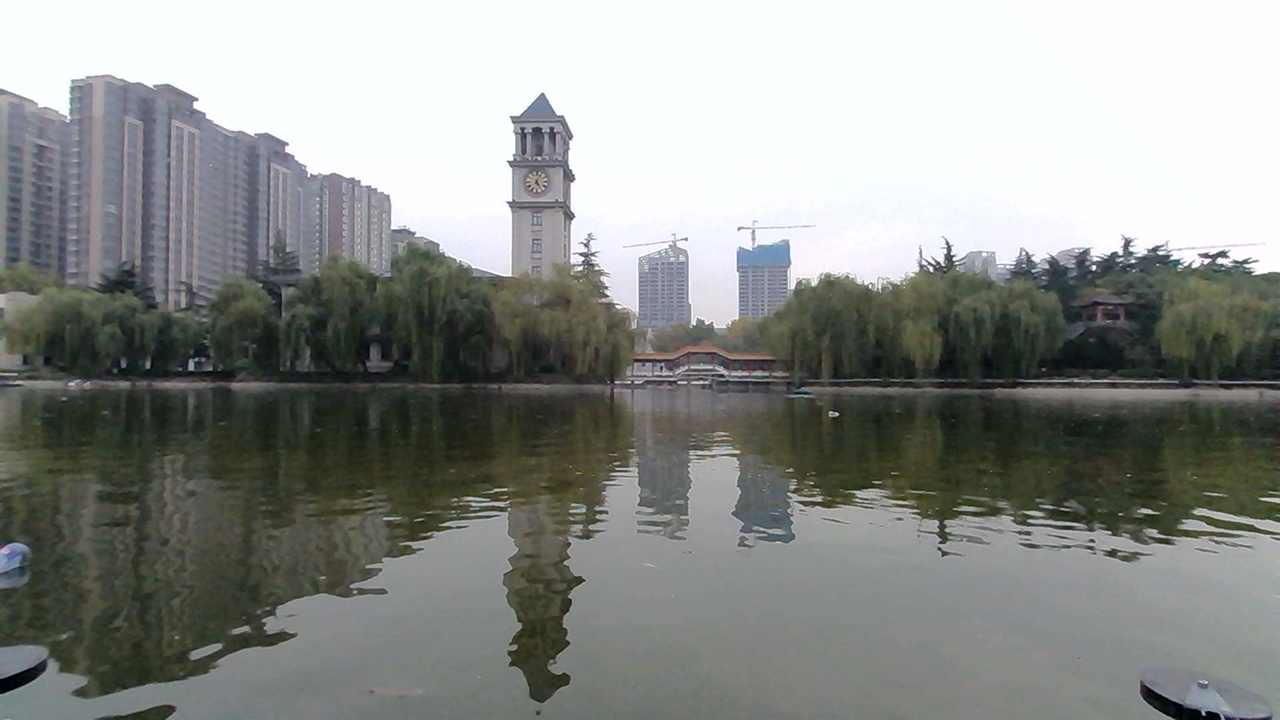bottle: (815, 399, 861, 423)
